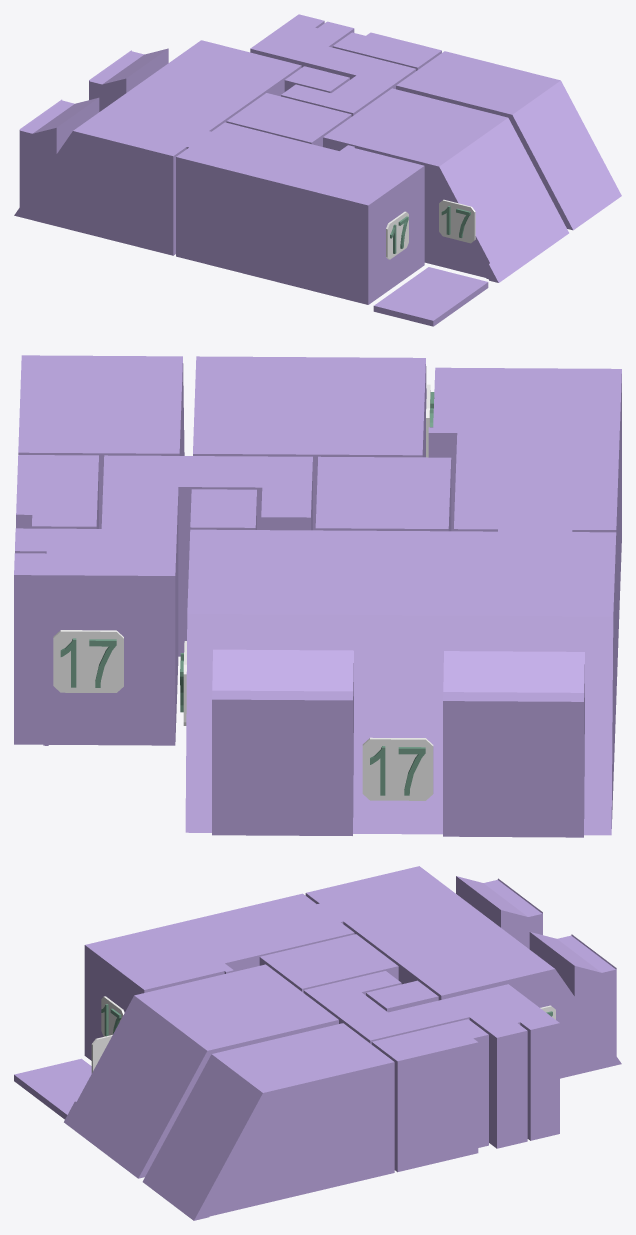
3 views of the same model, one above another, from view 1: azimuth 30°, elevation 25°; view 2: azimuth 150°, elevation 25°; view 3: azimuth 270°, elevation 25° (orthographic). The views are drawn at different scales.
Visible parts, largest first — view 1: g_5, g_6, g_1, g_2, g_4, g_8, g_3, g_0, g_11, g_7, g_23; view 2: g_6, g_4, g_5, g_1, g_2, g_3, g_0, g_14, g_17, g_7; view 3: g_2, g_6, g_1, g_4, g_5, g_0, g_3, g_8, g_7.
Boxes of the visible parts, box(x1,y1,x2,y2) form: g_5: box(176, 122, 424, 304); g_6: box(14, 40, 301, 255); g_1: box(323, 88, 568, 282); g_2: box(396, 51, 621, 230); g_4: box(250, 14, 416, 116); g_8: box(373, 267, 488, 326); g_3: box(226, 93, 351, 146); g_0: box(332, 32, 441, 70); g_11: box(439, 199, 475, 243); g_7: box(284, 66, 349, 92); g_23: box(386, 211, 408, 259); g_6: box(185, 529, 616, 837); g_4: box(14, 455, 312, 745); g_5: box(428, 367, 621, 695); g_1: box(193, 356, 426, 530); g_2: box(18, 355, 184, 528); g_3: box(315, 456, 451, 531); g_0: box(16, 455, 98, 528); g_14: box(362, 737, 433, 800); g_17: box(53, 630, 123, 692); g_7: box(190, 489, 256, 529); g_2: box(142, 1023, 394, 1220); g_6: box(305, 866, 621, 1078); g_1: box(64, 964, 338, 1178); g_4: box(303, 971, 559, 1148); g_5: box(84, 893, 354, 1060); g_0: box(371, 1019, 488, 1172); g_3: box(259, 934, 398, 992); g_8: box(14, 1058, 91, 1119); g_7: box(366, 980, 438, 1012).
Size of the model in its own units: 12.75 by 2.71 by 12.64.
